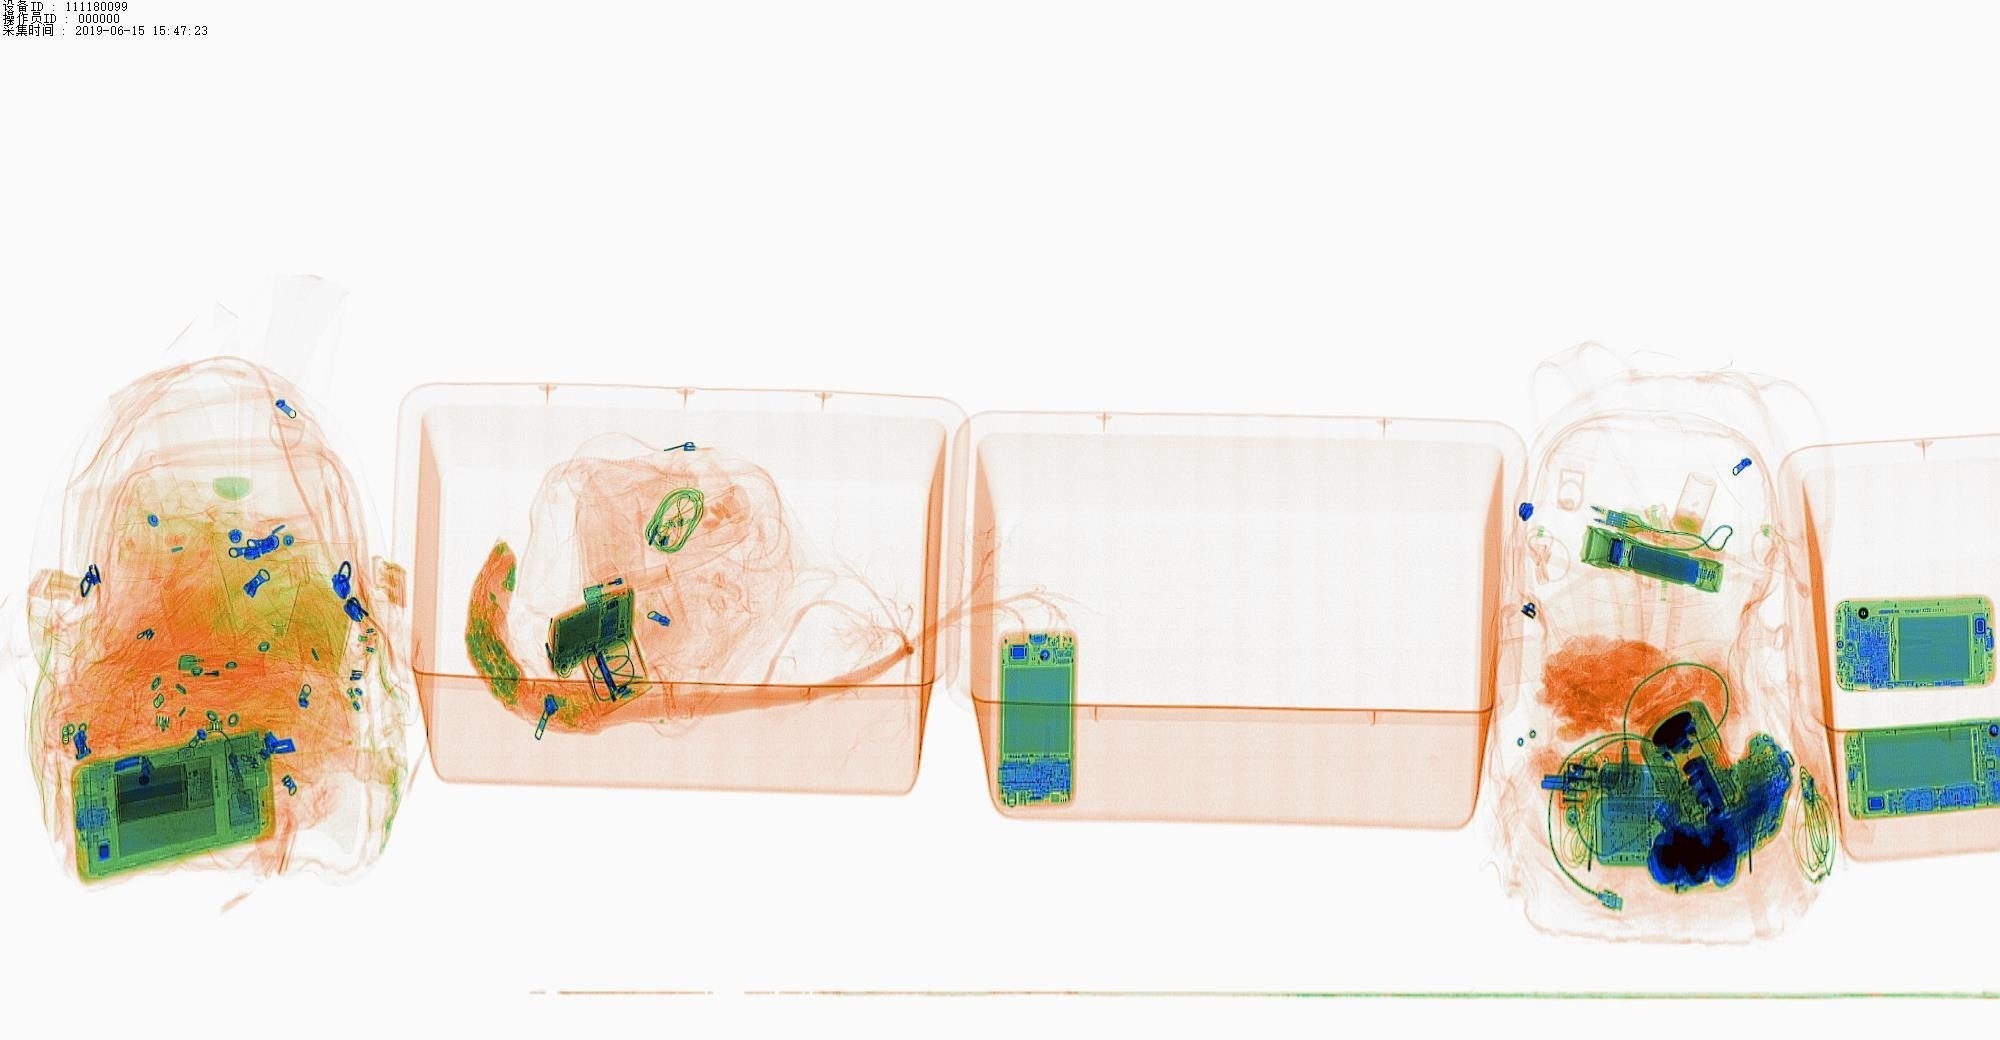NonmetallicFire: (585, 562, 685, 606), (171, 652, 288, 681)
